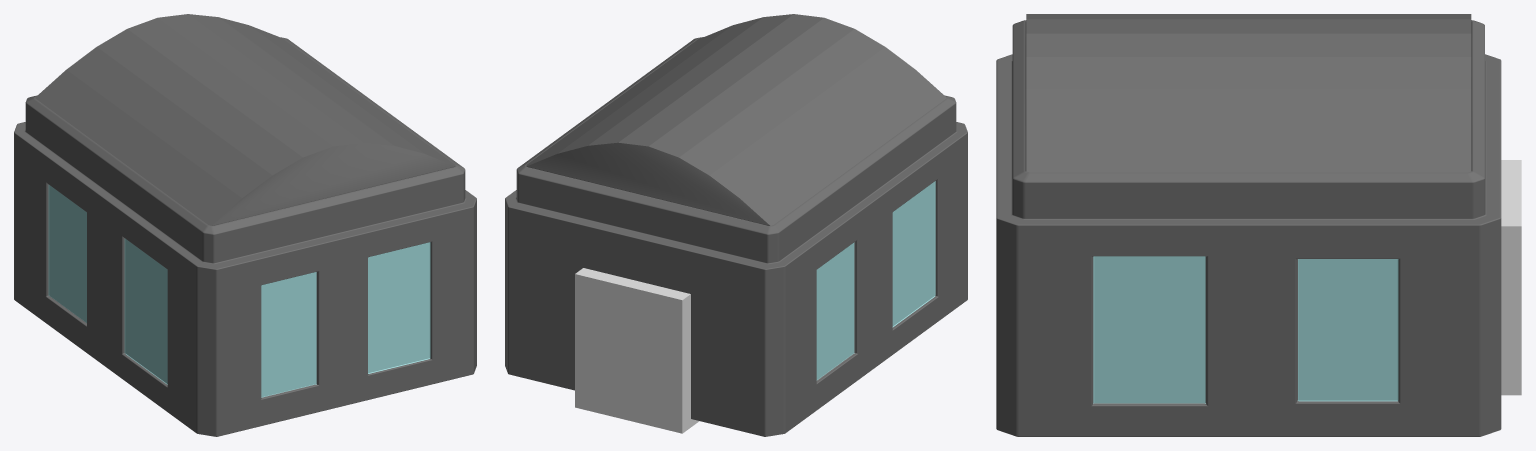
Rendered from Stocky_Building_07.fbx.
3 views of the same model, side by side, from view 1: azimuth 30°, elevation 25°; view 2: azimuth 150°, elevation 25°; view 3: azimuth 270°, elevation 25° (orthographic). The views are drawn at different scales.
Visible parts, largest first — view 1: Cube; view 2: Cube, Cube.002; view 3: Cube, Cube.002.
Boxes of the visible parts, x1,y1,x2,y2 form: Cube: (14,14,476,436); Cube: (505,14,967,436); Cube.002: (575,268,699,433); Cube: (996,14,1501,436); Cube.002: (1501,160,1521,395).
Size of the model in its own units: 2847 by 2521 by 3652.
